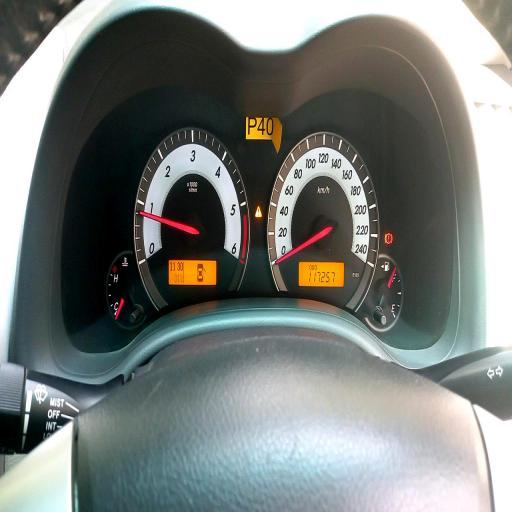brake_system_fault: (384, 231, 392, 244)
tachometer: (134, 124, 250, 308)
